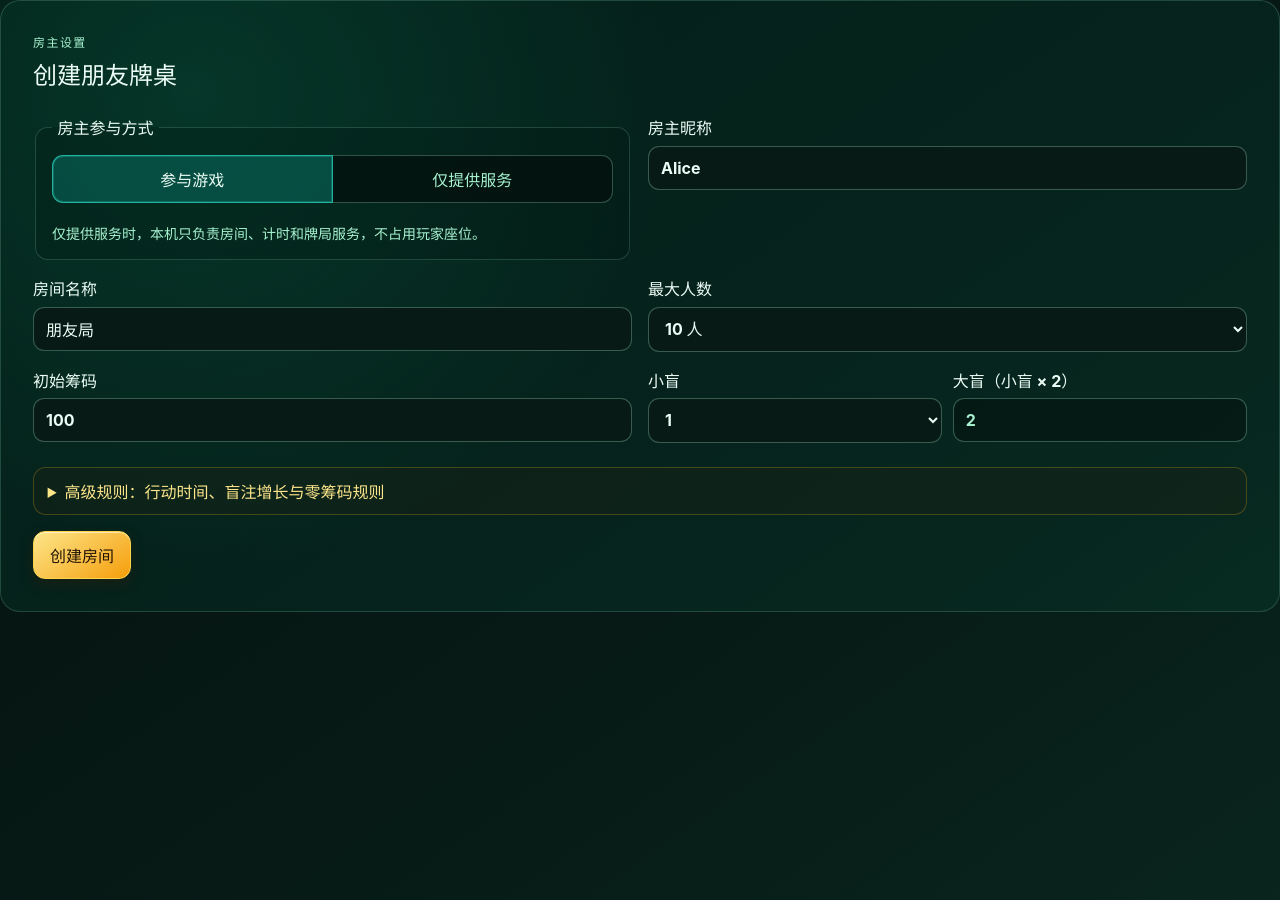
CreateRoomForm › uses shared schema validation and does not submit invalid chip amounts
The image size is (1280, 900).
Replace the text in the number field labelled "初始筹码" with "0" at (332, 420), box [33, 398, 632, 442]
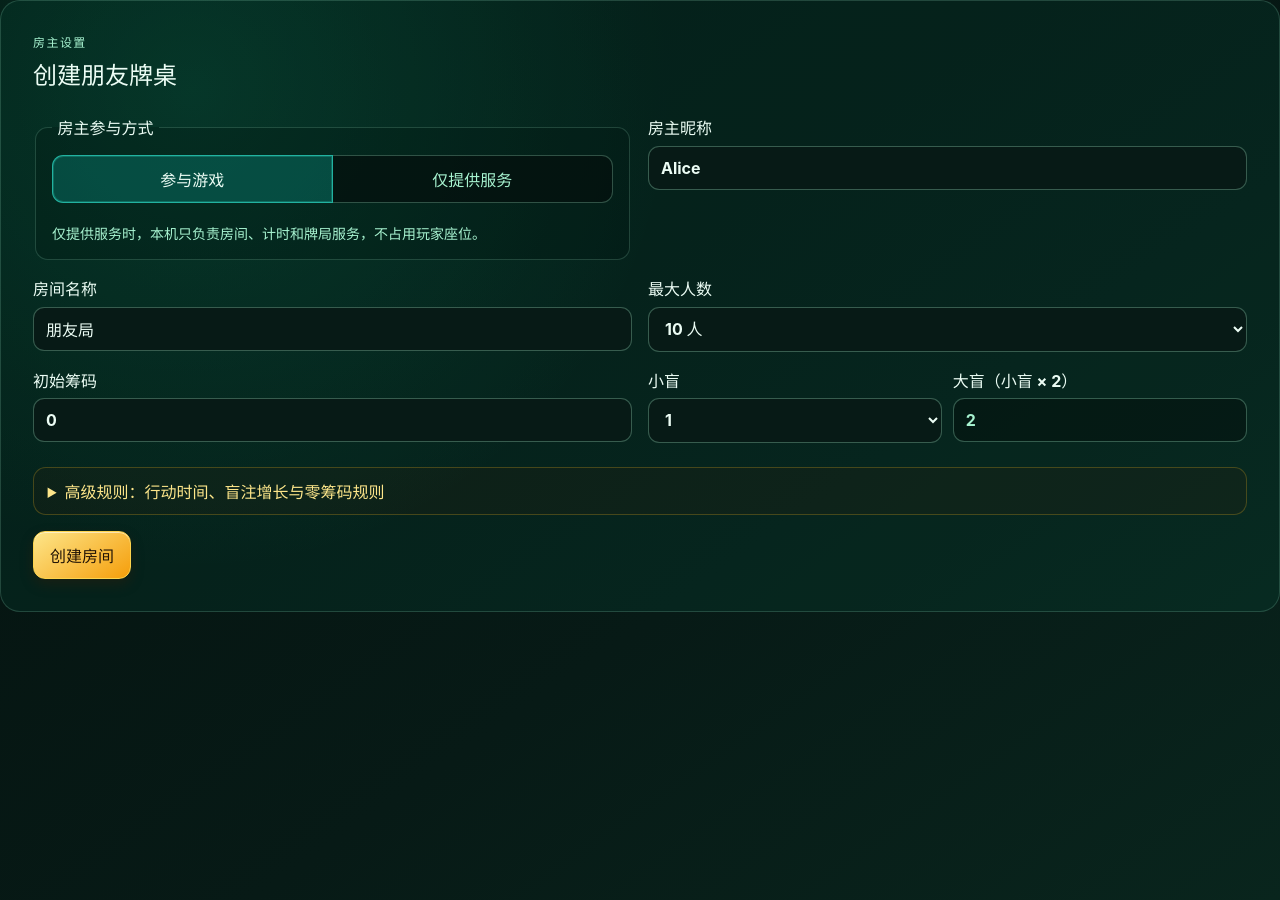
Click the button "创建房间".
click(82, 555)  # box [33, 531, 131, 580]
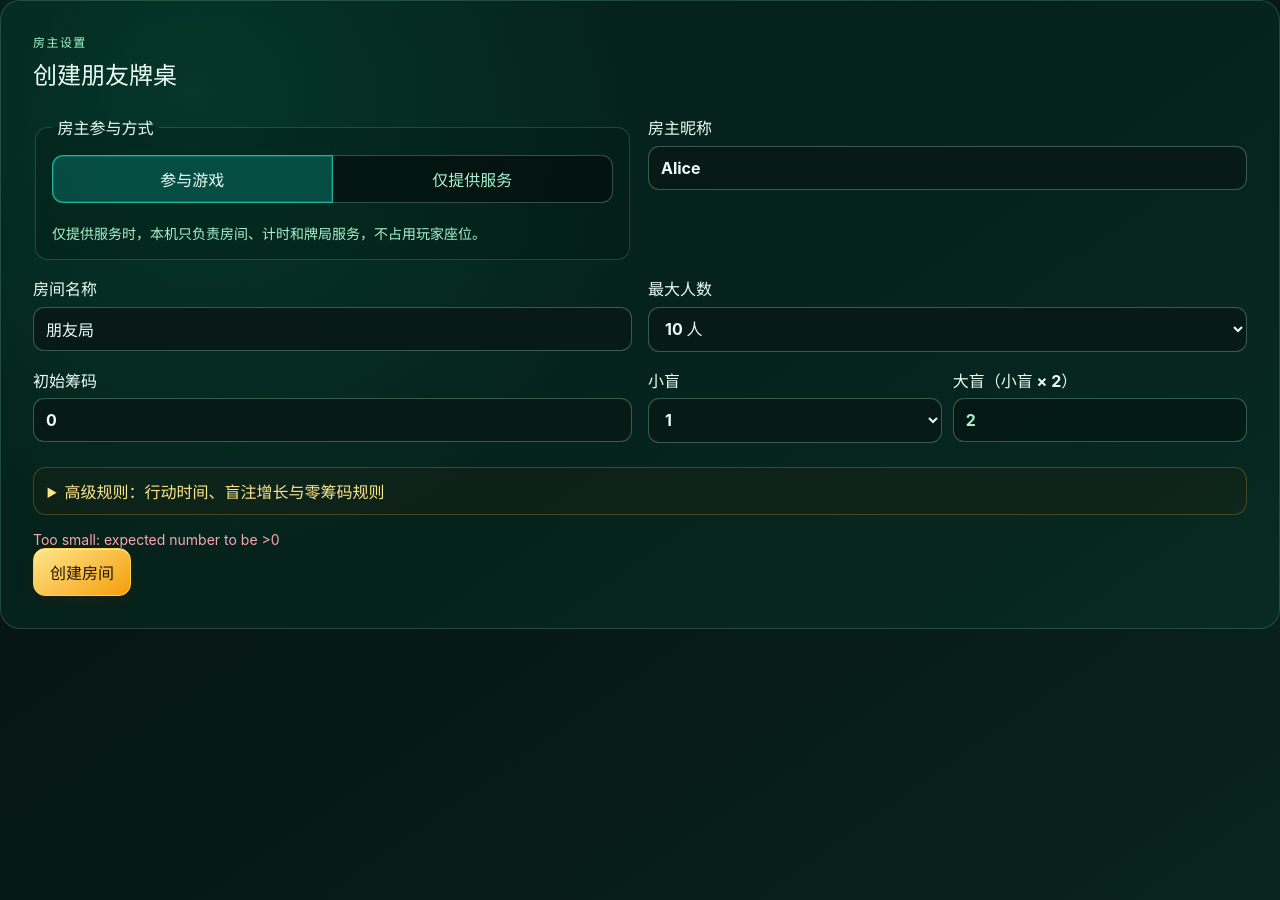
Check: the message "Too small: expected number to be >0" is shown, box [33, 531, 280, 548]
